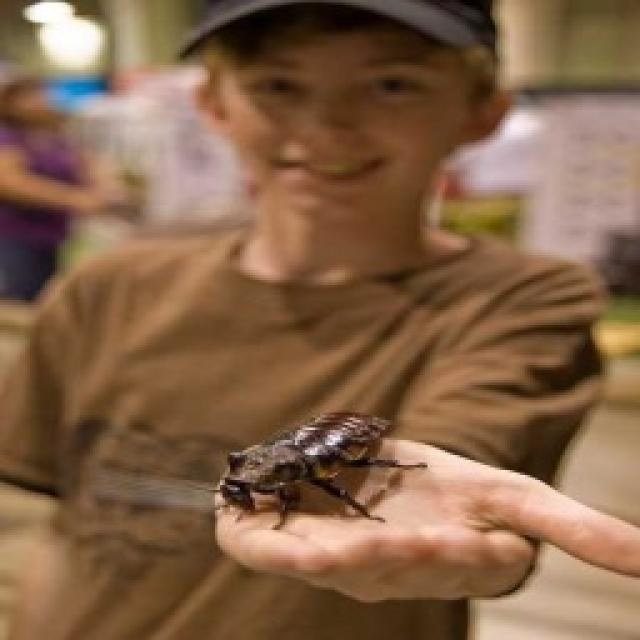cockroach: (212, 406, 429, 532)
